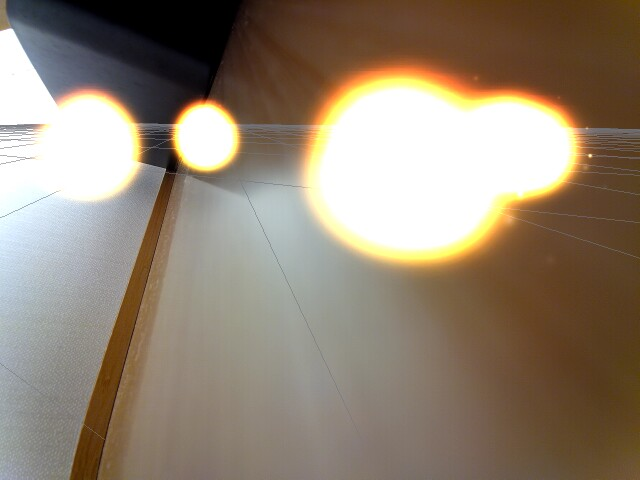fire: (309, 76, 499, 255), (34, 90, 139, 200), (477, 89, 583, 197), (173, 99, 240, 170)
